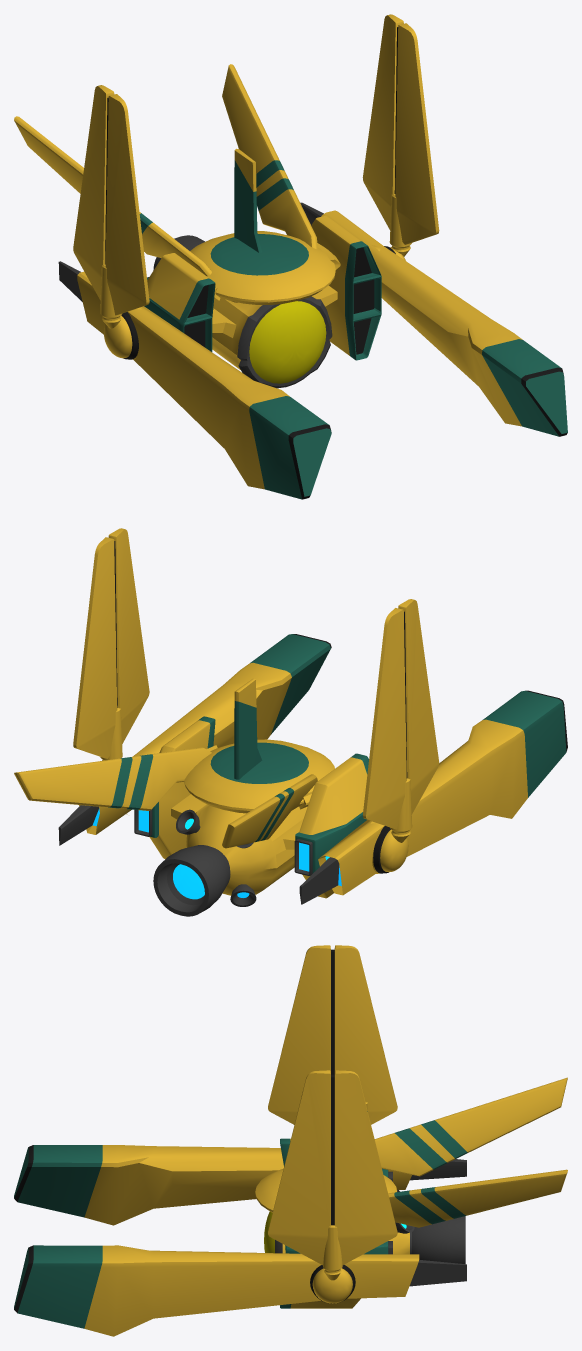
Rendered from voidrunner-1233.glb.
3 renders of one model, top to bottom at view 1: azimuth 30°, elevation 25°; view 2: azimuth 150°, elevation 25°; view 3: azimuth 270°, elevation 25°, orthographic. The views are drawn at different scales.
Visible parts, largest first — view 1: ShipPart_606, ShipPart_2, ShipPart_193, ShipPart_608, ShipPart_195, ShipPart_175, ShipPart_43, ShipPart_588, ShipPart_64, ShipPart_16; view 2: ShipPart_606, ShipPart_2, ShipPart_608, ShipPart_195, ShipPart_193, ShipPart_43, ShipPart_588, ShipPart_175, ShipPart_64, ShipPart_16; view 3: ShipPart_193, ShipPart_195, ShipPart_606, ShipPart_608, ShipPart_64, ShipPart_43, ShipPart_2, ShipPart_175.
Boxes of the visible parts, x1=… form: ShipPart_606: x1=58, y1=261, x2=331, y2=499; ShipPart_2: x1=153, y1=231, x2=340, y2=388; ShipPart_193: x1=300, y1=202, x2=567, y2=436; ShipPart_608: x1=73, y1=85, x2=149, y2=359; ShipPart_195: x1=362, y1=14, x2=439, y2=260; ShipPart_175: x1=311, y1=215, x2=381, y2=360; ShipPart_43: x1=222, y1=64, x2=317, y2=249; ShipPart_588: x1=144, y1=253, x2=215, y2=351; ShipPart_64: x1=14, y1=116, x2=211, y2=276; ShipPart_16: x1=234, y1=148, x2=261, y2=252; ShipPart_606: x1=299, y1=690, x2=567, y2=904; ShipPart_2: x1=153, y1=739, x2=334, y2=916; ShipPart_608: x1=363, y1=599, x2=439, y2=873; ShipPart_195: x1=73, y1=528, x2=149, y2=814; ShipPart_193: x1=58, y1=634, x2=331, y2=845; ShipPart_43: x1=14, y1=747, x2=211, y2=810; ShipPart_588: x1=294, y1=753, x2=368, y2=898; ShipPart_175: x1=134, y1=716, x2=215, y2=859; ShipPart_64: x1=222, y1=774, x2=317, y2=848; ShipPart_16: x1=234, y1=678, x2=262, y2=779; ShipPart_193: x1=14, y1=1245, x2=466, y2=1336; ShipPart_195: x1=268, y1=1070, x2=397, y2=1303; ShipPart_606: x1=14, y1=1145, x2=466, y2=1225; ShipPart_608: x1=268, y1=945, x2=397, y2=1124; ShipPart_64: x1=374, y1=1077, x2=567, y2=1176; ShipPart_43: x1=388, y1=1169, x2=567, y2=1227; ShipPart_2: x1=255, y1=1169, x2=465, y2=1264; ShipPart_175: x1=280, y1=1241, x2=392, y2=1308.
Size of the model in its own units: 7.42 by 7.06 by 13.01.
